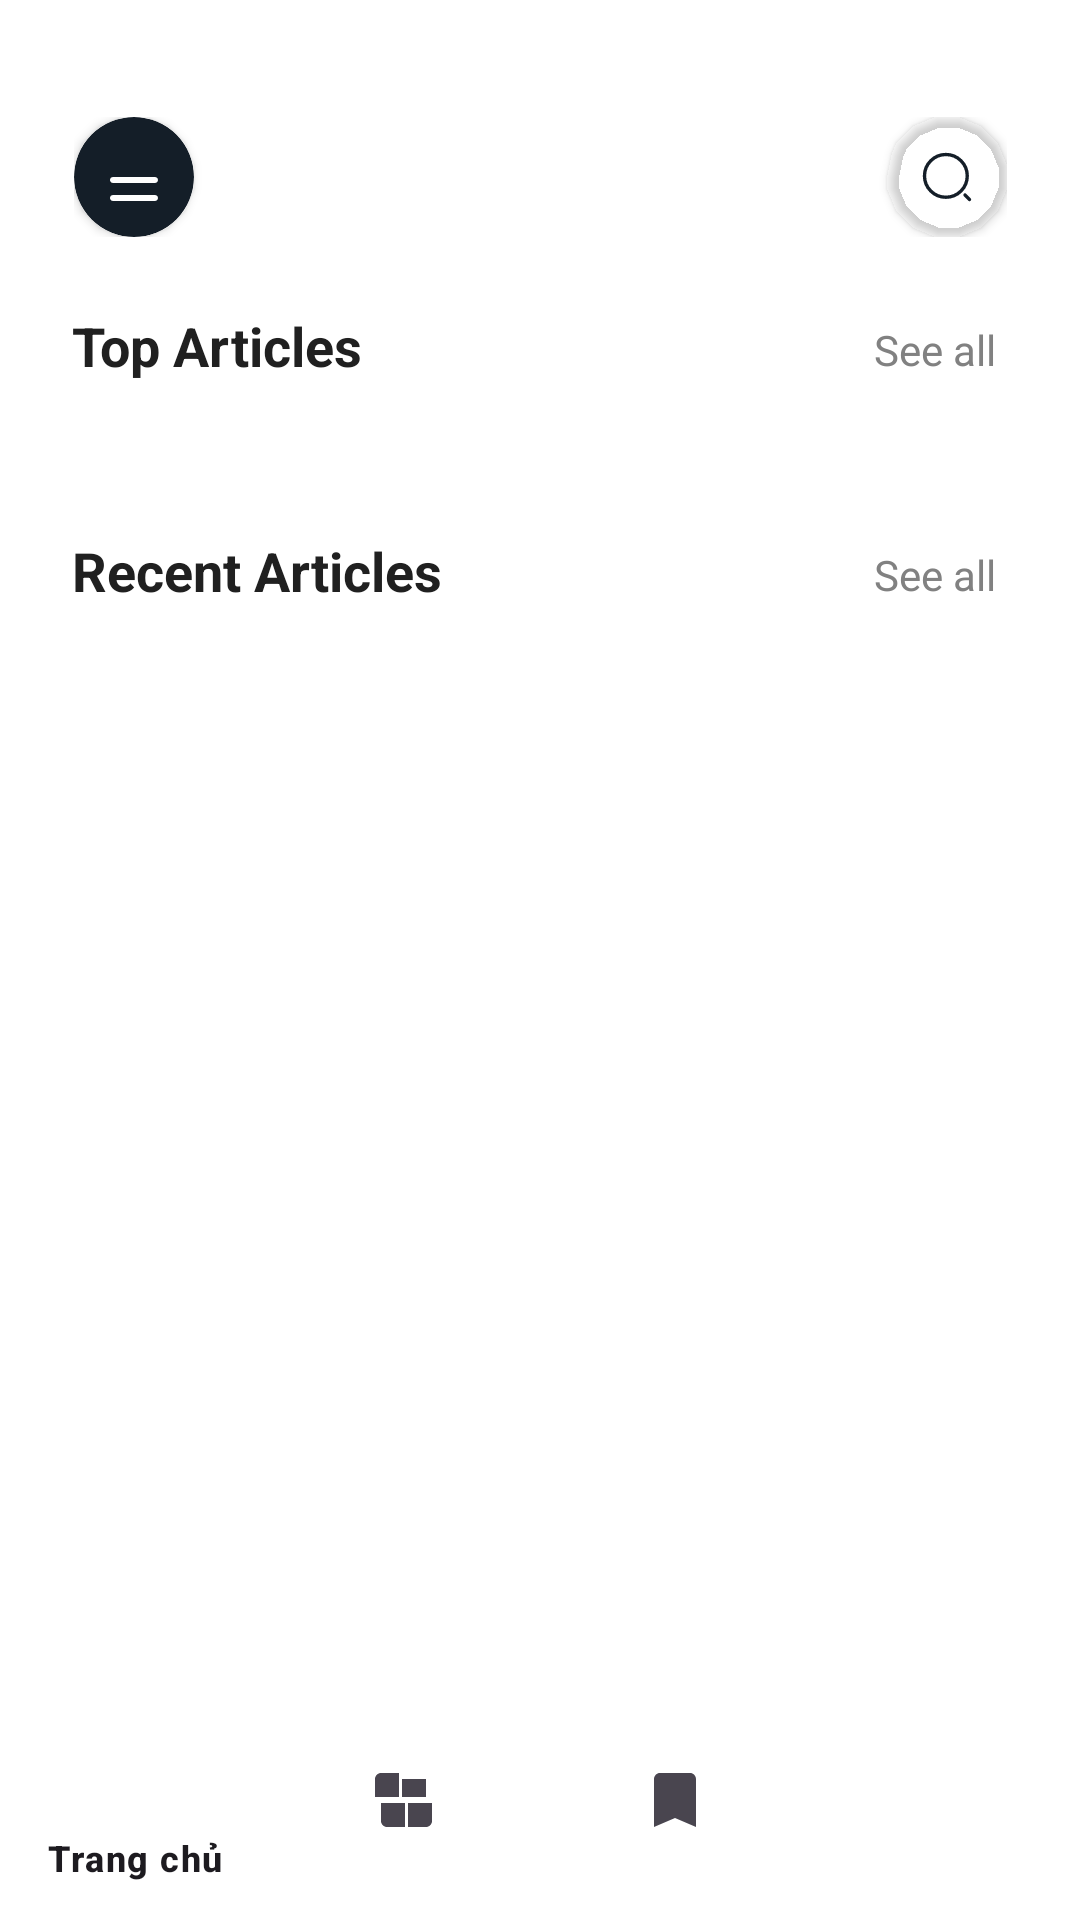

Screen size 1080 x 1920. Icon name, then its box in pixels as box=[x1, y1, x2, y2]:
Menu: box=[110, 177, 158, 201]
Search: box=[922, 152, 972, 202]
